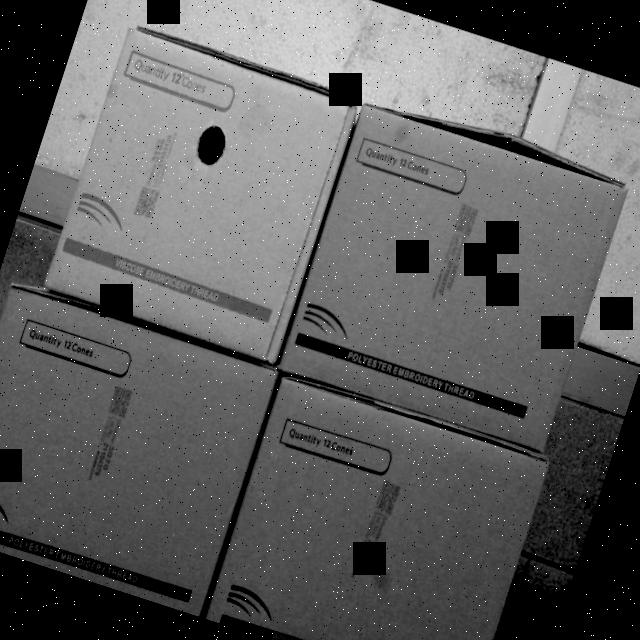box: (278, 94, 636, 454), (40, 29, 359, 368), (0, 283, 281, 615), (205, 377, 549, 640)
